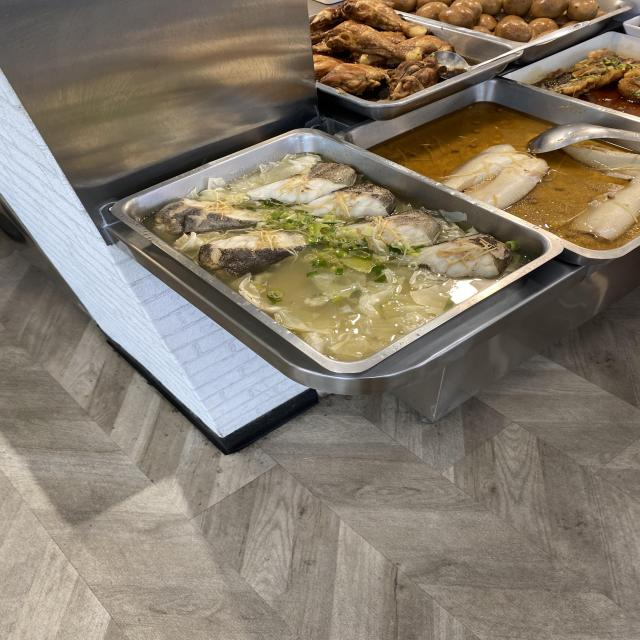Steamed fish: (209, 186, 379, 270)
